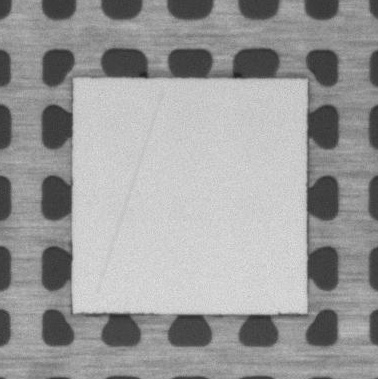DIE_CRACK: (97, 88, 164, 293)
